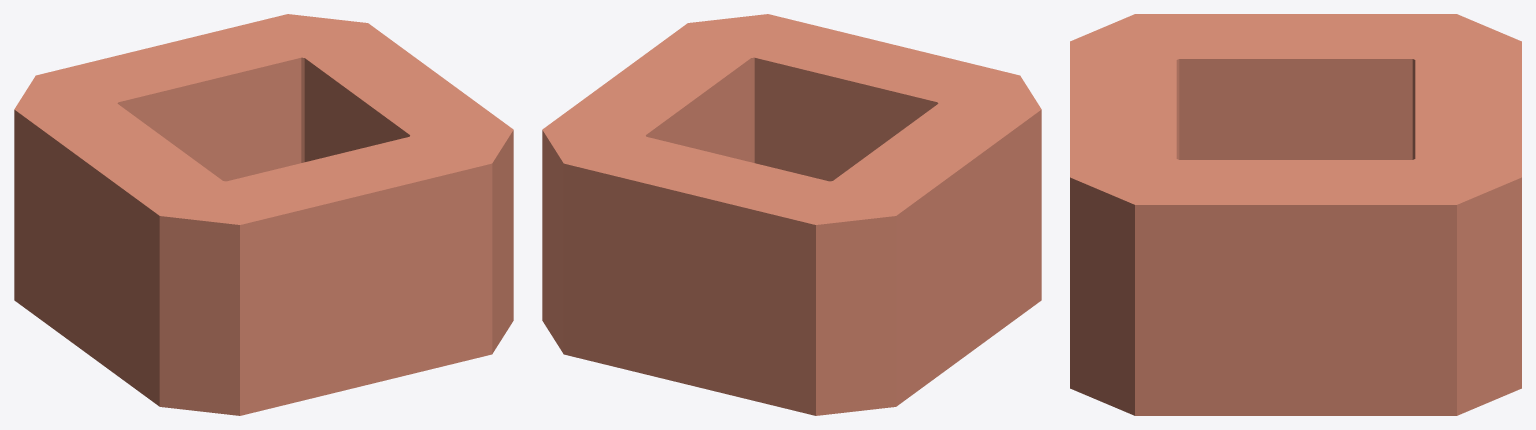
The model's file is block.glb.
3 renders of one model, left to right at view 1: azimuth 30°, elevation 25°; view 2: azimuth 150°, elevation 25°; view 3: azimuth 270°, elevation 25°, orthographic. The views are drawn at different scales.
Visible parts, largest first — view 1: Cube; view 2: Cube; view 3: Cube.
Part boxes in pixels (x1,y1,x2,y2): Cube: [14, 14, 513, 415]; Cube: [542, 14, 1041, 415]; Cube: [1070, 14, 1521, 415].
Bounding box in the file's own units: 1 × 0.5155 × 1.
